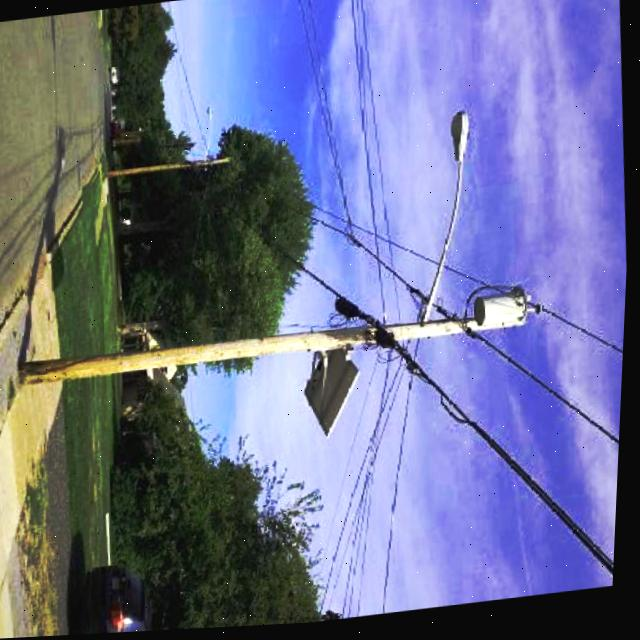poles: (21, 248, 564, 446)
wires: (395, 311, 628, 596), (263, 159, 481, 320), (294, 0, 403, 320), (314, 354, 417, 611)
